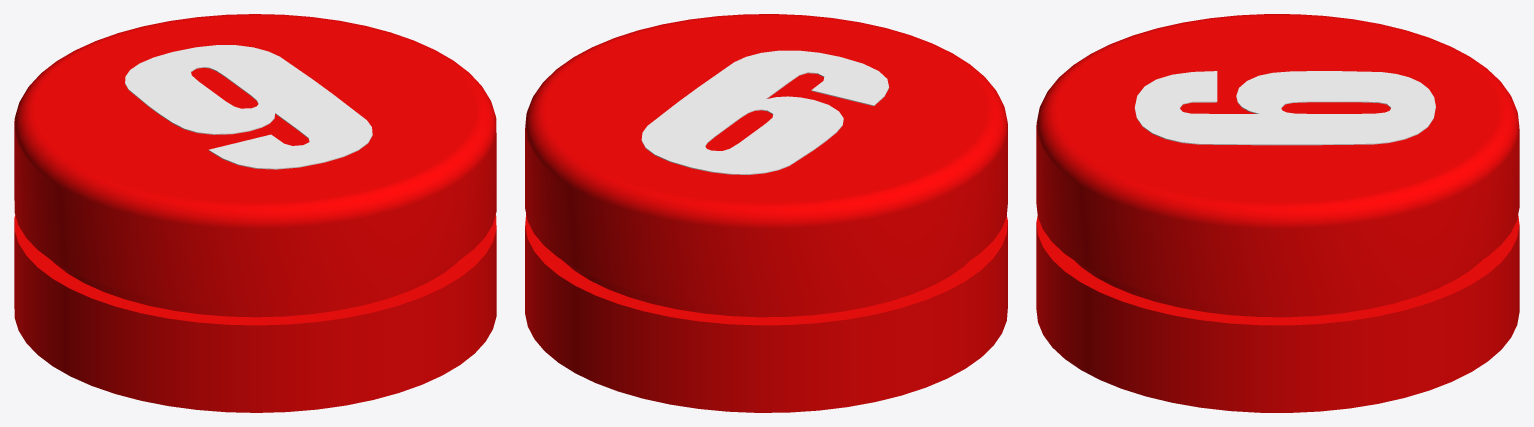
File: nubot_frame9_red.dae
The picture shows the model from 3 angles, left to right: view 1: azimuth 30°, elevation 25°; view 2: azimuth 150°, elevation 25°; view 3: azimuth 270°, elevation 25°; orthographic projection.
Parts seen in each view (by area): view 1: SketchUp (×3), instance_0; view 2: SketchUp (×3), instance_0; view 3: SketchUp (×3), instance_0.
Part boxes in pixels (x1=…): SketchUp (×3): x1=14, y1=14, x2=496, y2=412; instance_0: x1=125, y1=45, x2=372, y2=169; SketchUp (×3): x1=525, y1=14, x2=1007, y2=412; instance_0: x1=641, y1=50, x2=889, y2=174; SketchUp (×3): x1=1036, y1=14, x2=1519, y2=412; instance_0: x1=1134, y1=71, x2=1435, y2=145.
Size of the model in its own units: 19.66 by 19.68 by 9.09.
